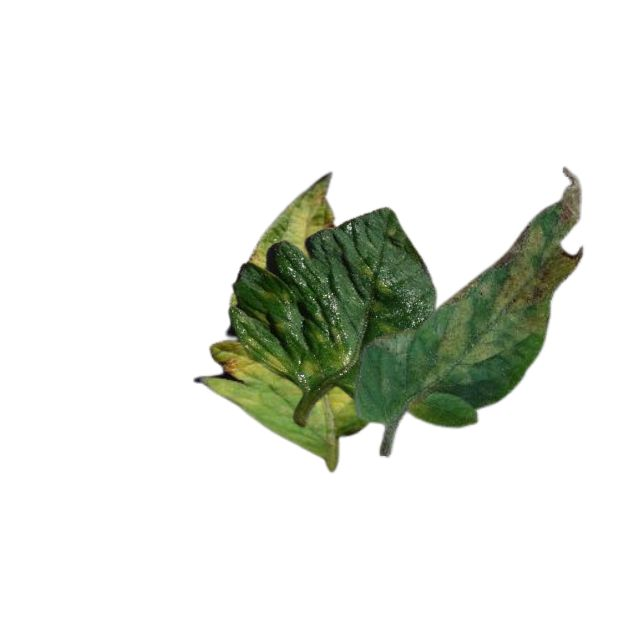Leaf_Mold: (422, 175, 585, 393), (248, 171, 336, 270), (195, 342, 287, 410), (309, 383, 358, 438)
